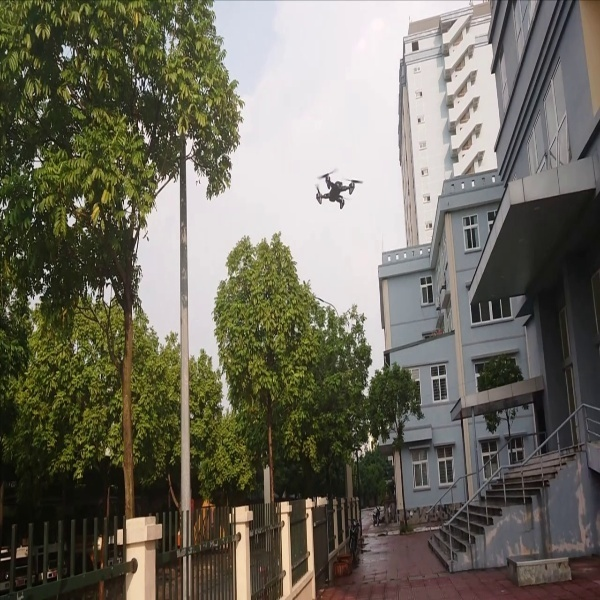drone: (304, 162, 370, 213)
